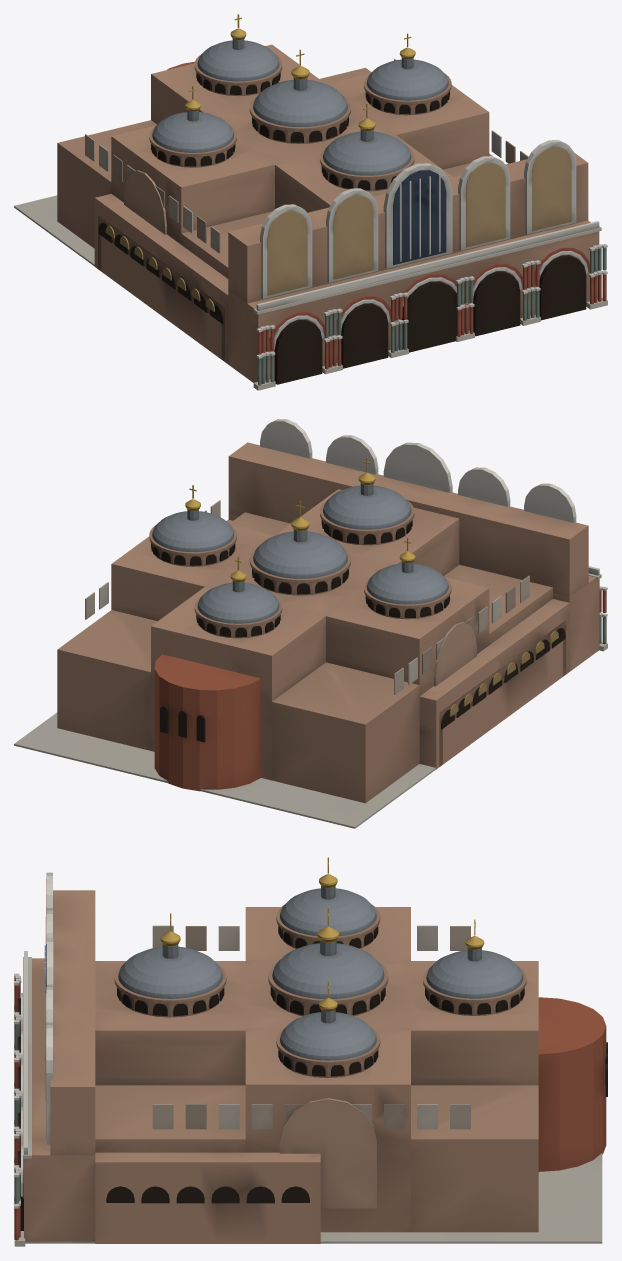
File: san-marco-1204.glb
The picture shows the model from 3 angles, top to bottom: view 1: azimuth 30°, elevation 25°; view 2: azimuth 150°, elevation 25°; view 3: azimuth 270°, elevation 25°; orthographic projection. The views are drawn at different scales.
Parts seen in each view (by area): view 1: p0_walls, p1_facade, p2_domes; view 2: p0_walls, p2_domes, p1_facade; view 3: p0_walls, p2_domes, p1_facade.
Boxes of the visible parts, left/top/right/bottom form: p0_walls: left=14, top=44, right=599, bottom=382; p1_facade: left=85, top=59, right=607, bottom=390; p2_domes: left=149, top=14, right=451, bottom=191; p0_walls: left=14, top=442, right=599, bottom=828; p2_domes: left=149, top=457, right=451, bottom=638; p1_facade: left=85, top=419, right=607, bottom=766; p0_walls: left=24, top=890, right=606, bottom=1243; p2_domes: left=114, top=857, right=526, bottom=1077; p1_facade: left=14, top=872, right=607, bottom=1246.
Bounding box in the file's own units: 63.6 × 34.94 × 79.08.
